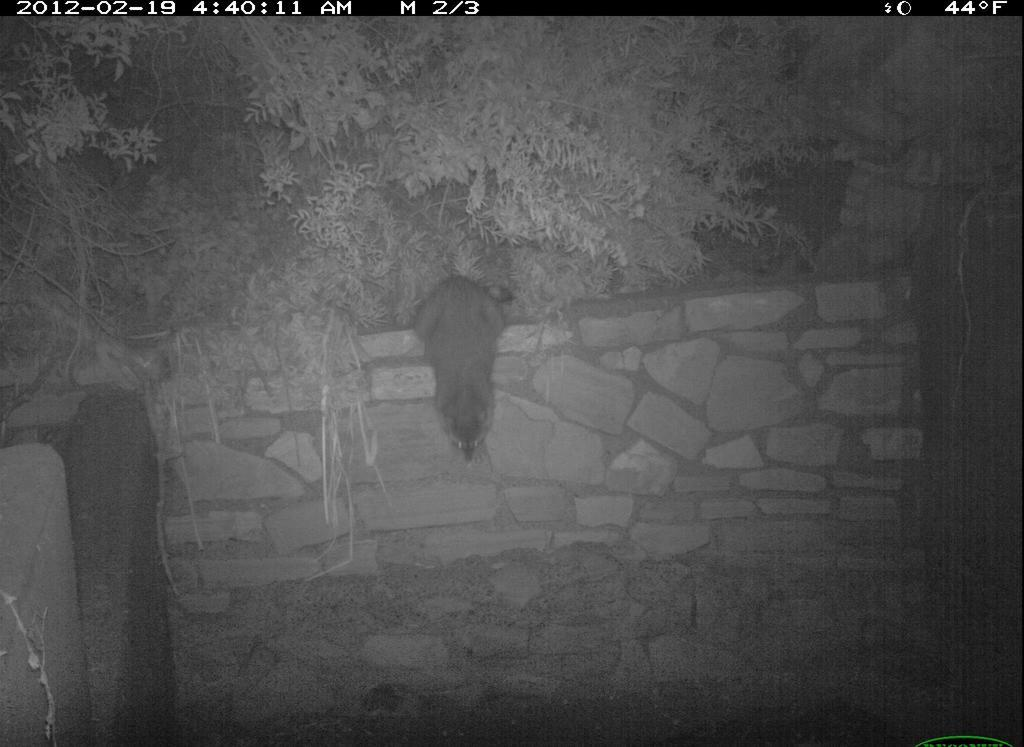raccoon: (396, 253, 533, 500)
